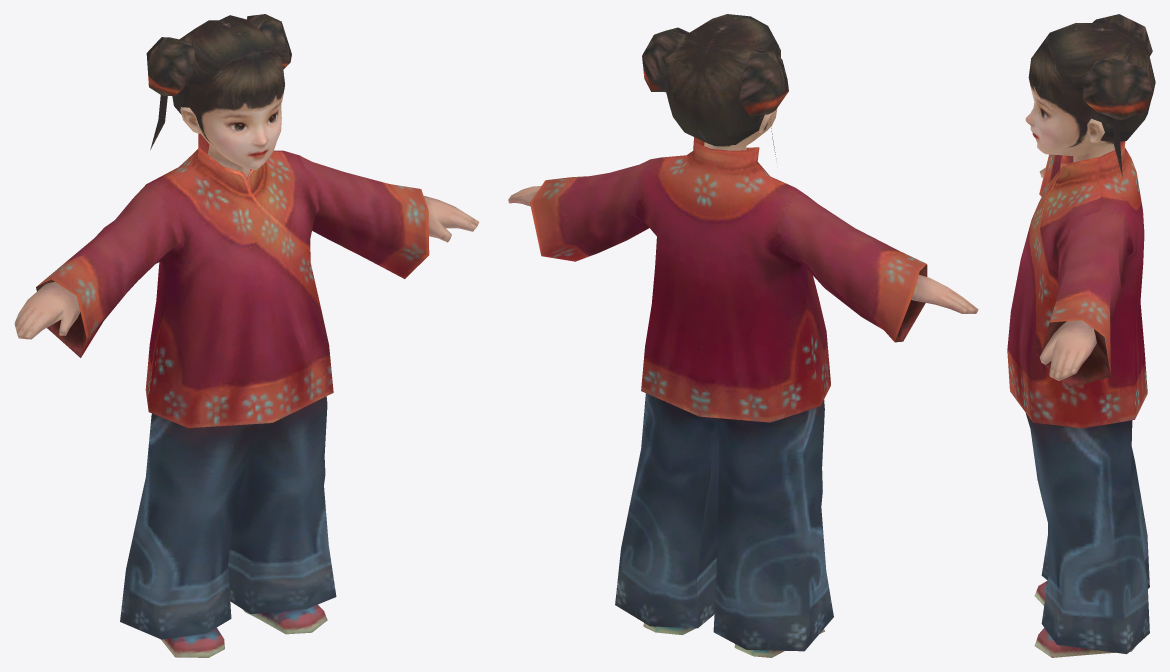
The model's file is little_girl.glb.
3 views of the same model, side by side, from view 1: azimuth 30°, elevation 25°; view 2: azimuth 150°, elevation 25°; view 3: azimuth 270°, elevation 25° (orthographic).
Visible parts, largest first — view 1: Element Client-2f35fd70.obj_0; view 2: Element Client-2f35fd70.obj_0; view 3: Element Client-2f35fd70.obj_0.
Boxes of the visible parts, <box> form: Element Client-2f35fd70.obj_0: <box>14,14,479,657</box>; Element Client-2f35fd70.obj_0: <box>508,14,978,657</box>; Element Client-2f35fd70.obj_0: <box>1007,14,1155,657</box>.
Bounding box in the file's own units: 0.81 × 1 × 0.227.
Materials: 1 (1 with a texture image).
